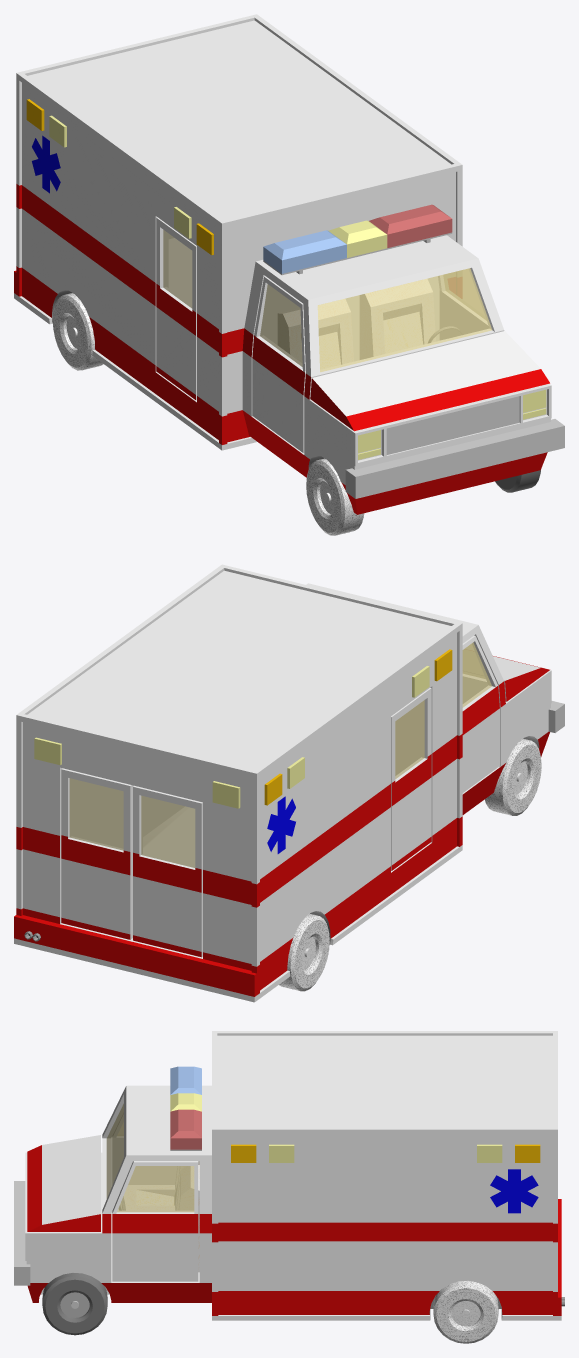
Rendered from ambulance_3.fbx.
3 renders of one model, top to bottom at view 1: azimuth 30°, elevation 25°; view 2: azimuth 150°, elevation 25°; view 3: azimuth 270°, elevation 25°, orthographic. The views are drawn at different scales.
Parts seen in each view (by area): view 1: instance_0.007, instance_0.027, instance_0.006, instance_2, instance_0.019, instance_9, instance_2.001, instance_8, instance_0.026, instance_0.011, instance_4, instance_0.037 (+19 smaller); view 2: instance_0.007, instance_0.027, instance_0.025, instance_10, instance_3, instance_0.037, instance_8, instance_0.026, instance_3.003, instance_10.003, instance_9, instance_5 (+16 smaller); view 3: instance_0.007, instance_0.027, instance_0.022, instance_0.038, instance_11, instance_2, instance_11.002, instance_6, instance_12, instance_2.001, instance_0.025, instance_11.001 (+17 smaller).
Part boxes in pixels (x1,y1,x2,y2): instance_0.007: (16, 14, 551, 484); instance_0.027: (25, 17, 453, 219); instance_0.006: (317, 268, 491, 371); instance_2: (312, 331, 540, 416); instance_0.019: (345, 419, 564, 498); instance_9: (252, 276, 305, 453); instance_2.001: (310, 369, 549, 431); instance_8: (156, 217, 196, 400); instance_0.026: (89, 317, 227, 444); instance_0.011: (386, 396, 519, 454); instance_4: (360, 279, 435, 359); instance_0.037: (16, 184, 155, 305); instance_0.007: (16, 564, 551, 966); instance_0.027: (24, 568, 453, 770); instance_0.025: (14, 908, 292, 996); instance_10: (61, 768, 133, 939); instance_3: (133, 785, 202, 956); instance_0.037: (203, 784, 390, 907); instance_8: (391, 688, 431, 870); instance_0.026: (325, 816, 462, 938); instance_3.003: (141, 796, 195, 867); instance_10.003: (69, 778, 123, 850); instance_9: (462, 635, 499, 792); instance_5: (485, 738, 541, 815); instance_0.007: (25, 1031, 557, 1320); instance_0.027: (217, 1033, 552, 1127); instance_0.022: (101, 1283, 439, 1315); instance_0.038: (218, 1222, 557, 1242); instance_11: (112, 1161, 198, 1281); instance_2: (42, 1135, 100, 1224); instance_11.002: (117, 1166, 194, 1212); instance_6: (433, 1281, 498, 1343); instance_12: (42, 1273, 107, 1335); instance_2.001: (27, 1145, 100, 1231); instance_0.025: (492, 1199, 561, 1315); instance_11.001: (112, 1214, 198, 1233).
Bounding box in the file's own units: 186 × 188 × 437.
